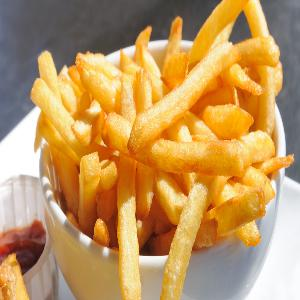fries: (22, 4, 289, 268)
